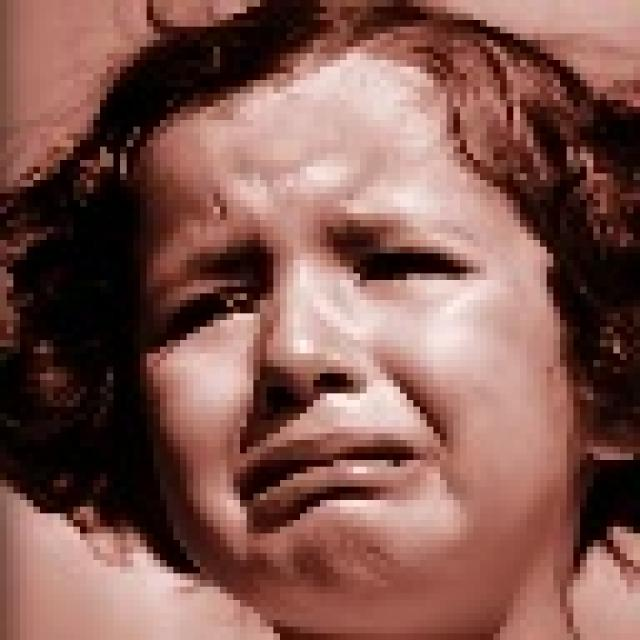sad: (85, 72, 640, 640)
